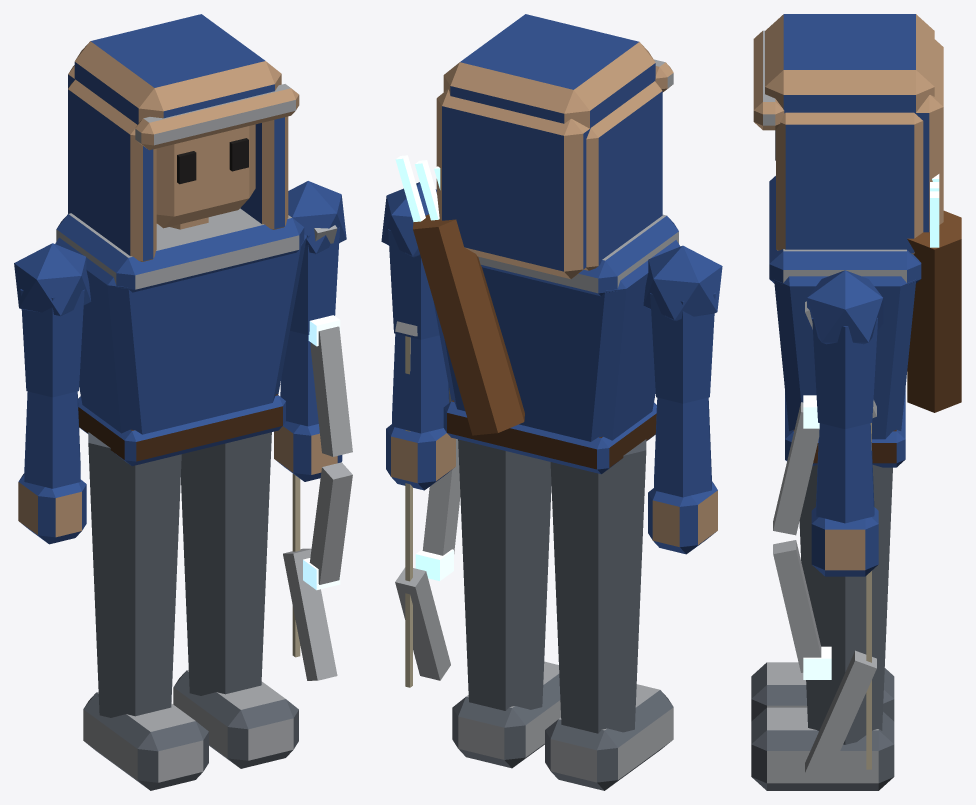
File: frost_ranger.glb
3 views of the same model, side by side, from view 1: azimuth 30°, elevation 25°; view 2: azimuth 150°, elevation 25°; view 3: azimuth 270°, elevation 25° (orthographic). The views are drawn at different scales.
Visible parts, largest first — view 1: torso, head, leg_r, leg_l, arm_l, arm_r; view 2: head, torso, leg_r, leg_l, arm_l, arm_r; view 3: head, arm_l, torso, leg_l, leg_r.
Part boxes in pixels (box(x1,y1,x2,y2)): torso: box(55, 208, 306, 466); head: box(68, 14, 299, 261); leg_r: box(83, 432, 208, 790); leg_l: box(173, 432, 298, 768); arm_l: box(274, 181, 352, 680); arm_r: box(14, 243, 90, 544); head: box(436, 14, 673, 278); torso: box(395, 155, 680, 474); leg_r: box(545, 439, 673, 790); leg_l: box(452, 439, 560, 768); arm_l: box(381, 182, 460, 687); arm_r: box(643, 245, 722, 554); head: box(753, 14, 943, 254); arm_l: box(773, 270, 883, 780); torso: box(769, 174, 961, 467); leg_l: box(751, 464, 894, 790); leg_r: box(751, 662, 894, 721).
Size of the model in its own units: 0.8159 by 1.68 by 0.4471.
